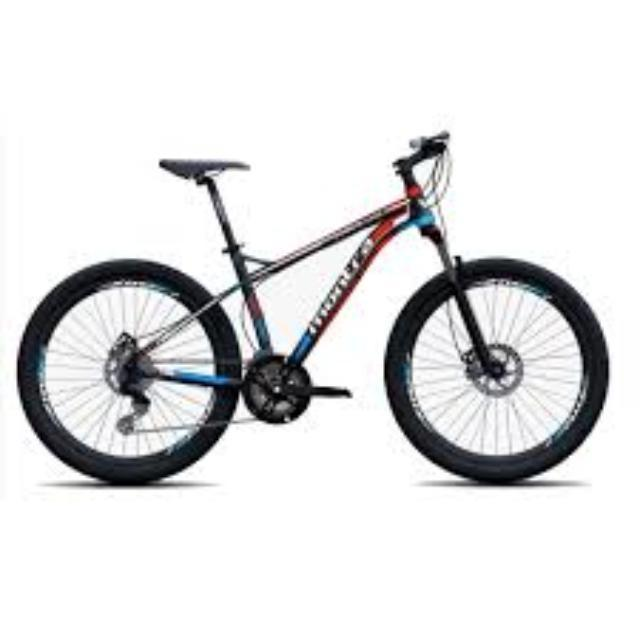obstacle: (10, 86, 622, 534)
